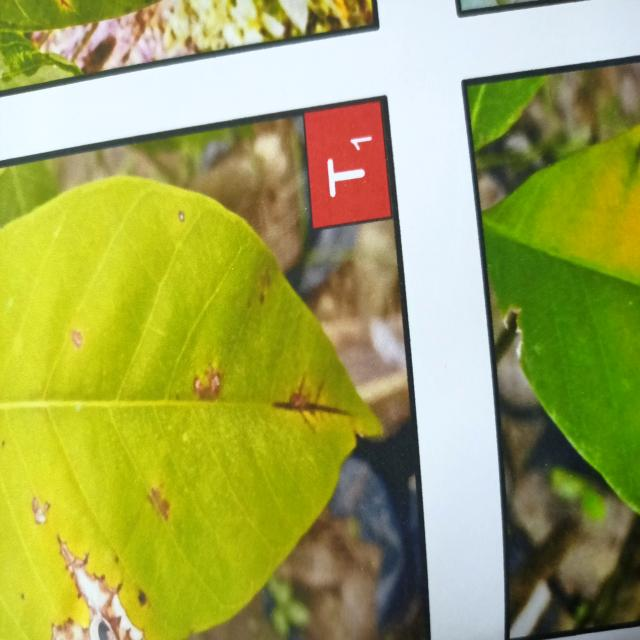Colletotrichum: (178, 210, 185, 223)
Corynespora: (272, 373, 347, 433)
Leaf-Blight: (53, 541, 144, 640)
